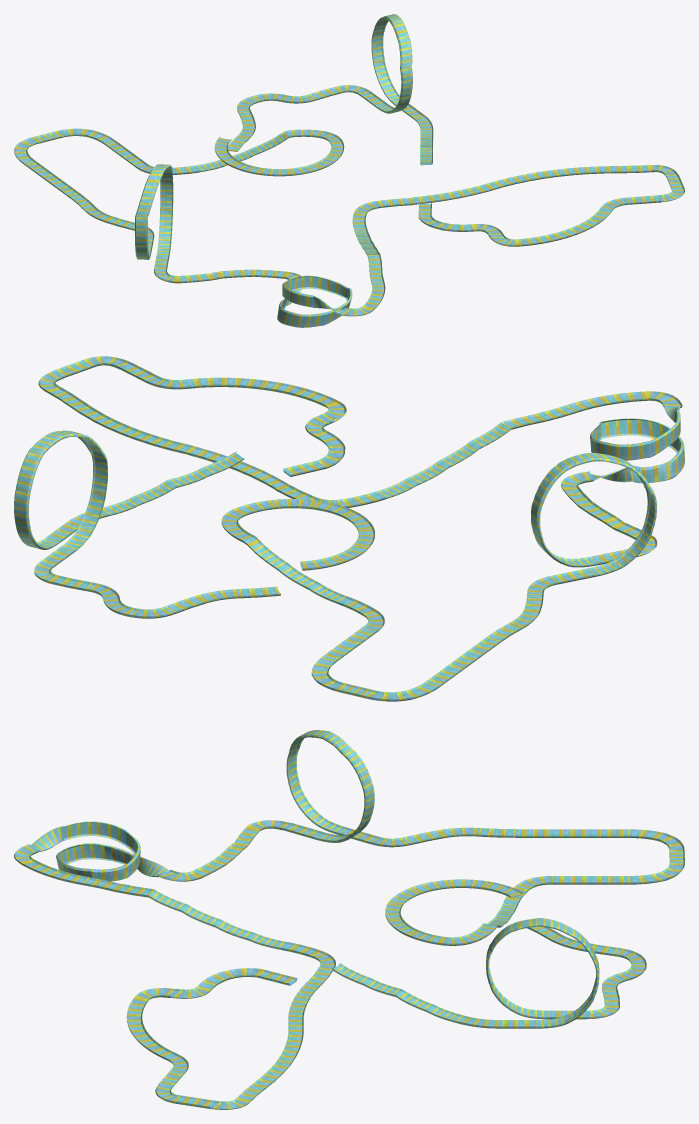
The model's file is Pista de carreras.fbx.
The picture shows the model from 3 angles, top to bottom: view 1: azimuth 30°, elevation 25°; view 2: azimuth 150°, elevation 25°; view 3: azimuth 270°, elevation 25°; orthographic projection. The views are drawn at different scales.
Parts seen in each view (by area): view 1: Curve 90 3.002; view 2: Curve 90 3.002; view 3: Curve 90 3.002.
Part boxes in pixels (x1,y1,x2,y2): Curve 90 3.002: [14, 14, 684, 327]; Curve 90 3.002: [14, 356, 684, 701]; Curve 90 3.002: [14, 730, 684, 1109].
Bounding box in the file's own units: 4574 × 818 × 4399.
